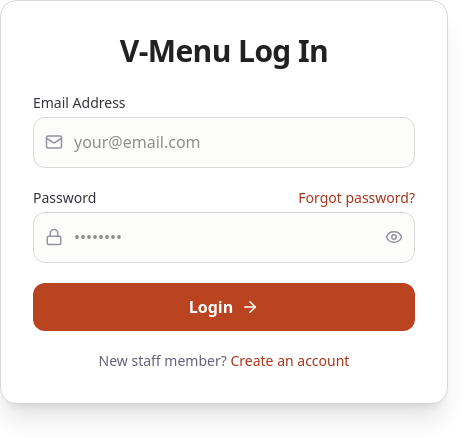
forgot password on the /login page (VM-14) › sends the reset email and says so without confirming the account
Click the button "Forgot password?" at (357, 198), box [298,188,415,208]
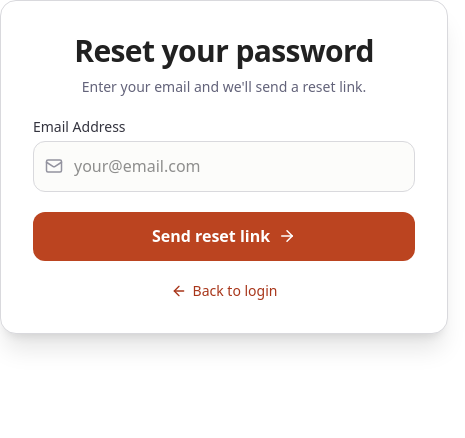
Type "dara@x.test" into the field labelled "Email Address" at (224, 166), box [33,141,415,192]
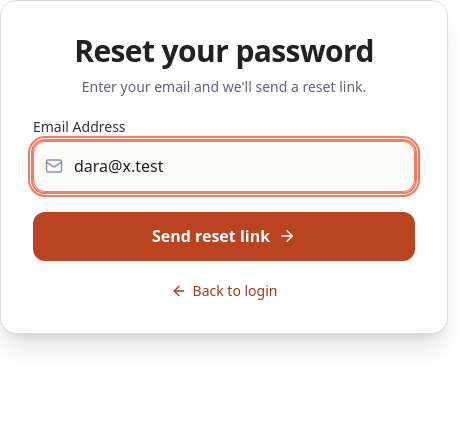
Click the button "Send reset link" at (224, 236), box [33,212,415,261]
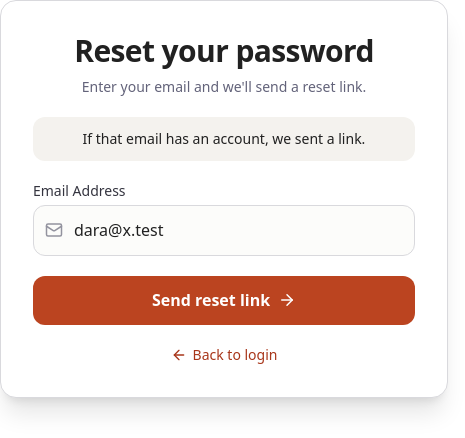
Expected: the text "If that email has an account, we sent a link." is shown, [33,117,415,161]
